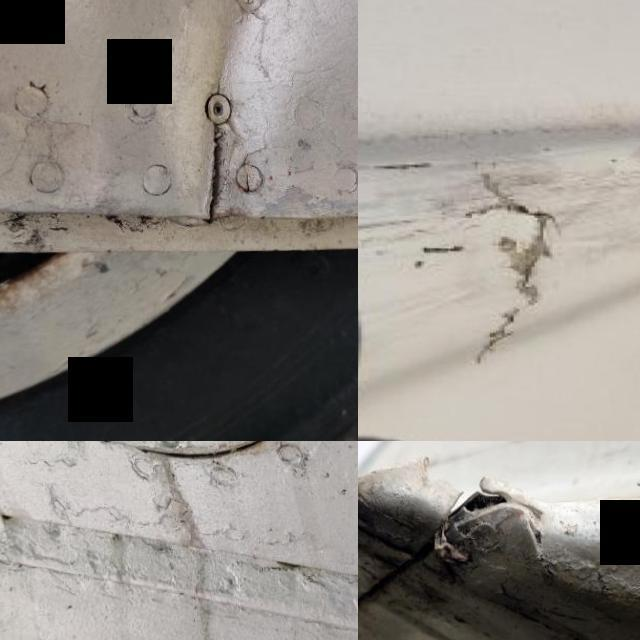Crack: (461, 170, 561, 305), (170, 100, 254, 227), (433, 452, 532, 542), (358, 441, 428, 520), (469, 301, 524, 368), (370, 160, 425, 172), (415, 243, 465, 256)
